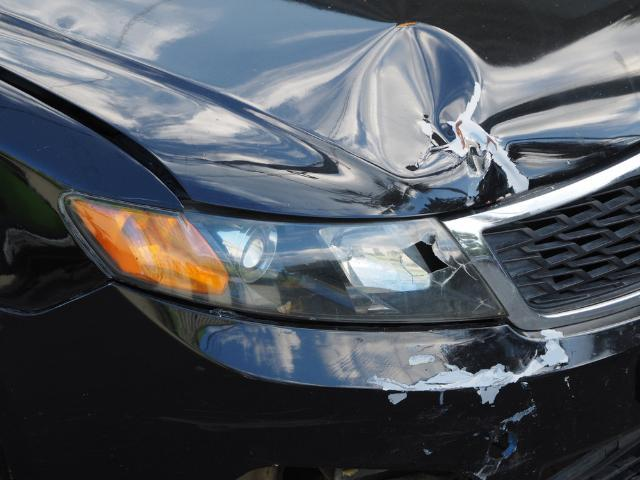dent: (369, 25, 640, 191)
lamp broken: (65, 195, 509, 325)
scratch: (363, 326, 573, 480)
